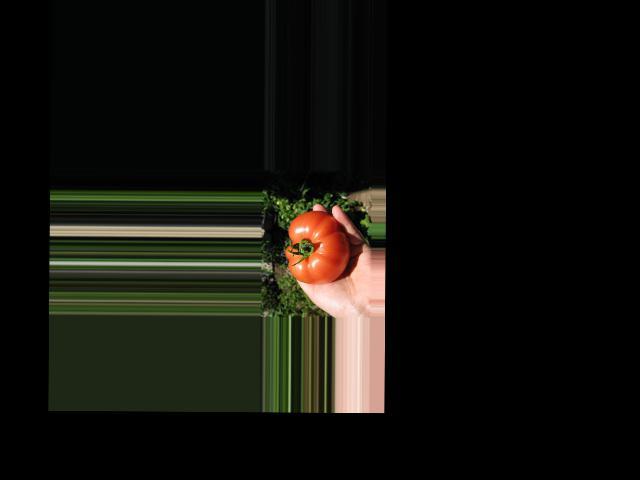tomato: (285, 210, 349, 283)
